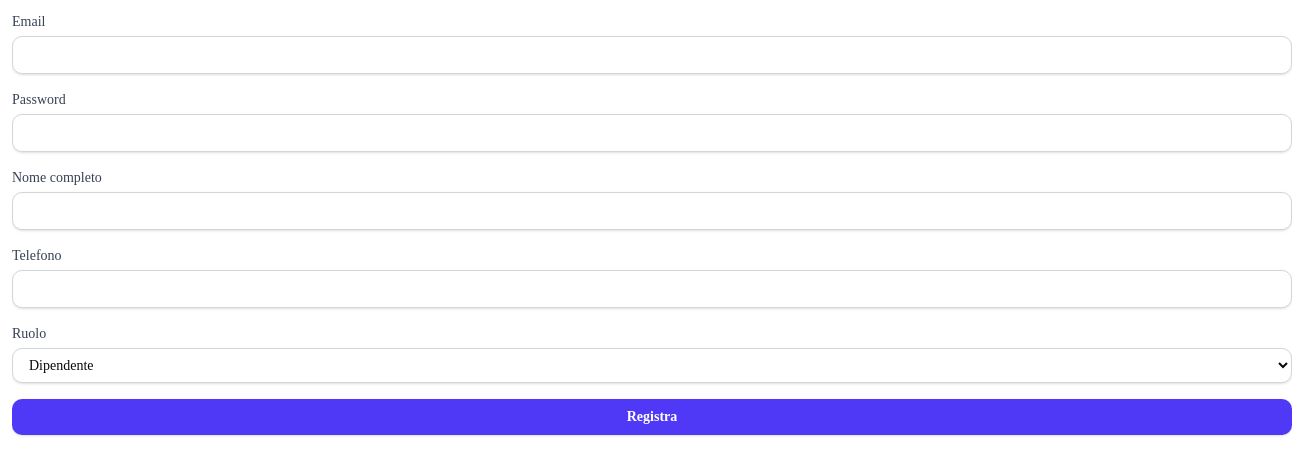
Test case: RegisterPage / RegisterForm › validation › shows password too short error
In the field labelled "Email": (652,55) [12, 36, 1292, 74], type "mario@example.com"
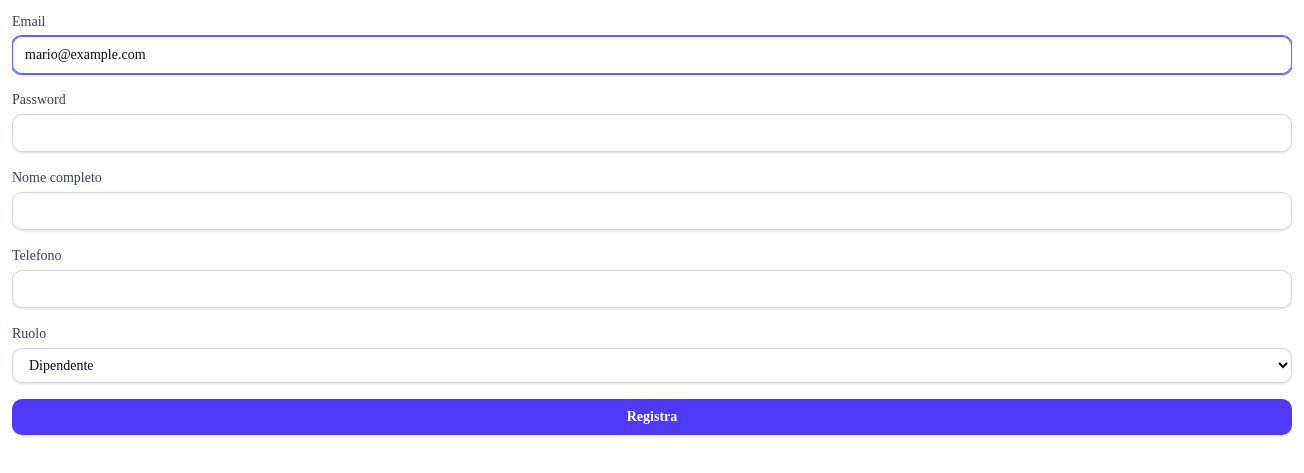
In the password field labelled "Password": (652,133) [12, 114, 1292, 152], type "short"
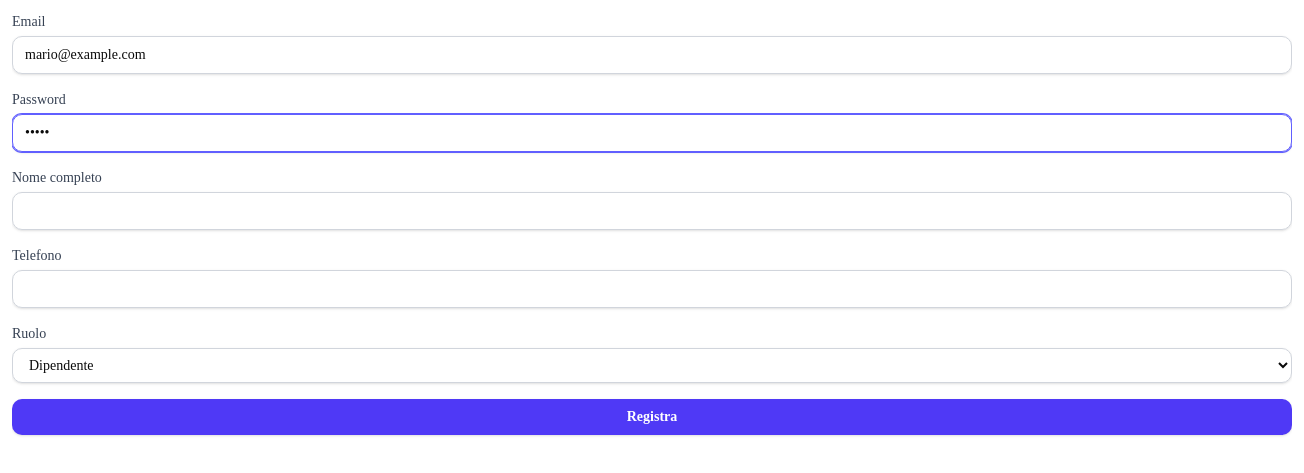
In the field labelled "Nome completo": (652,211) [12, 192, 1292, 230], type "Mario Rossi"
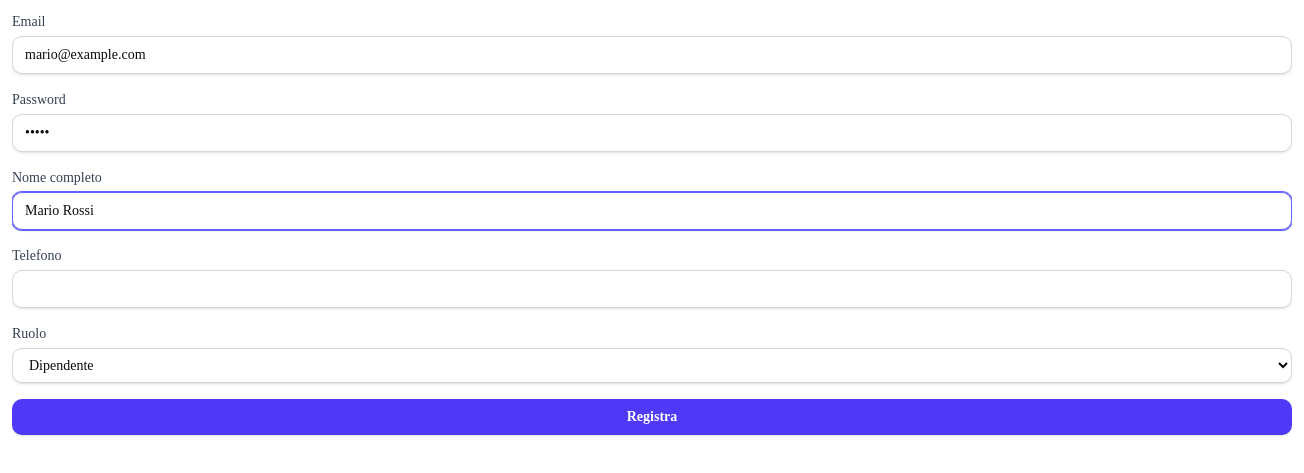
In the field labelled "Telefono": (652,289) [12, 270, 1292, 308], type "3331234567"
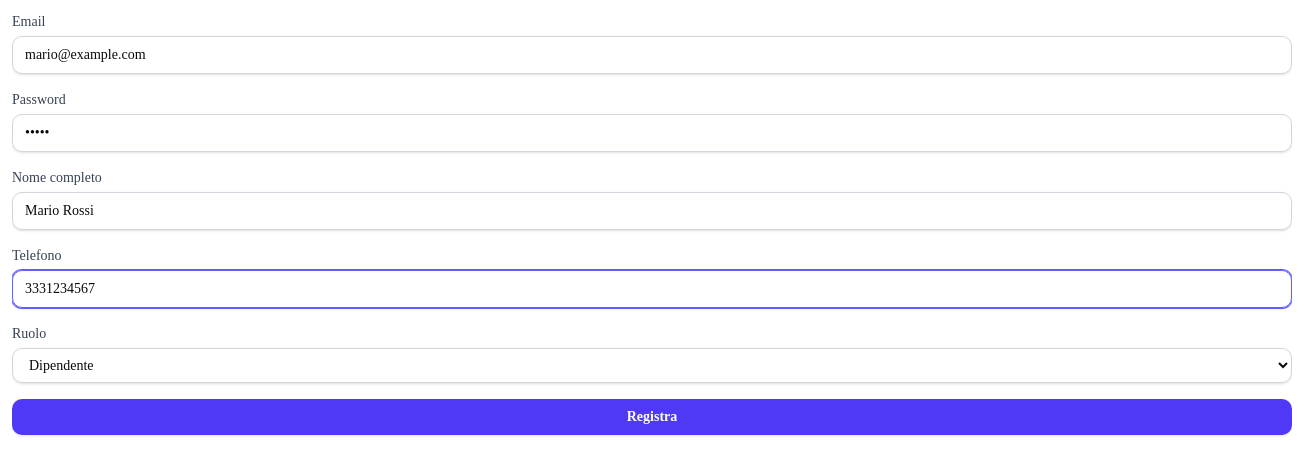
Click the button "Registra": (652,417) [12, 399, 1292, 435]
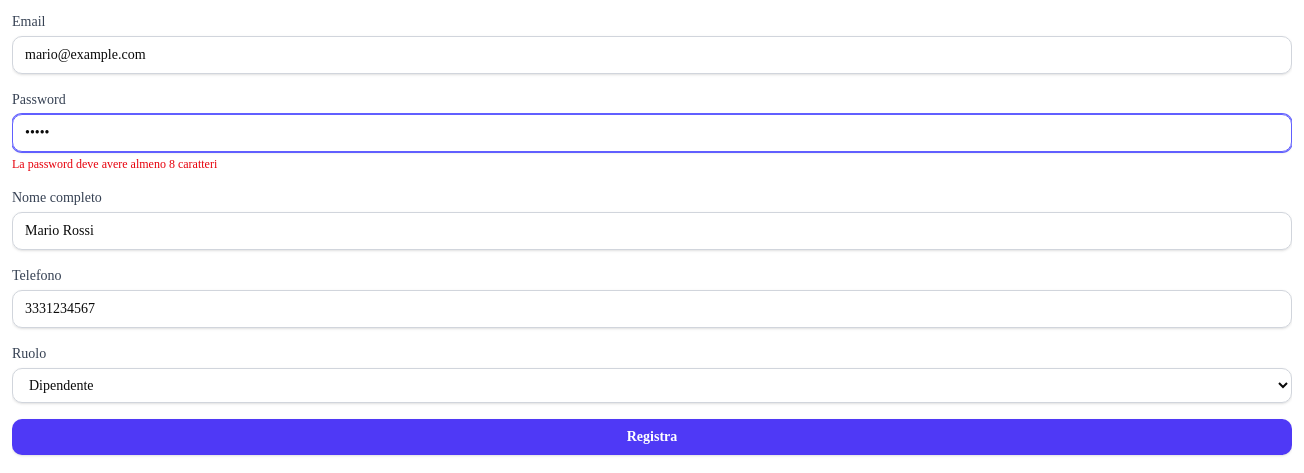
Result: the text "La password deve avere almeno 8 caratteri" is shown at [12, 157, 217, 171]
